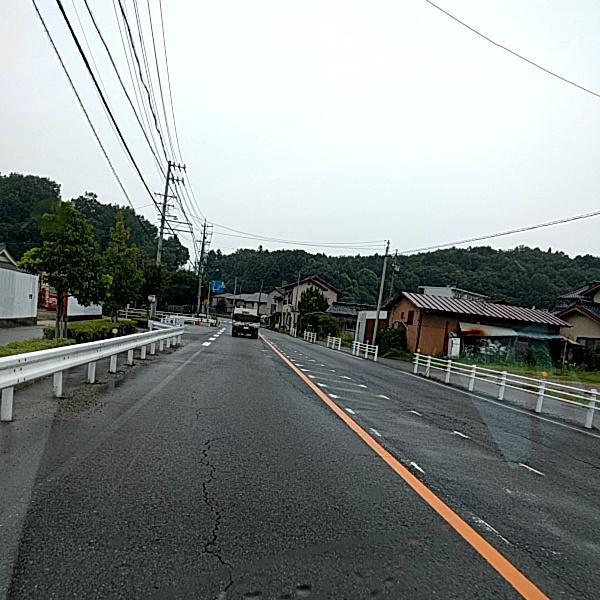D00: (194, 424, 246, 591)
D44: (300, 349, 529, 566)
